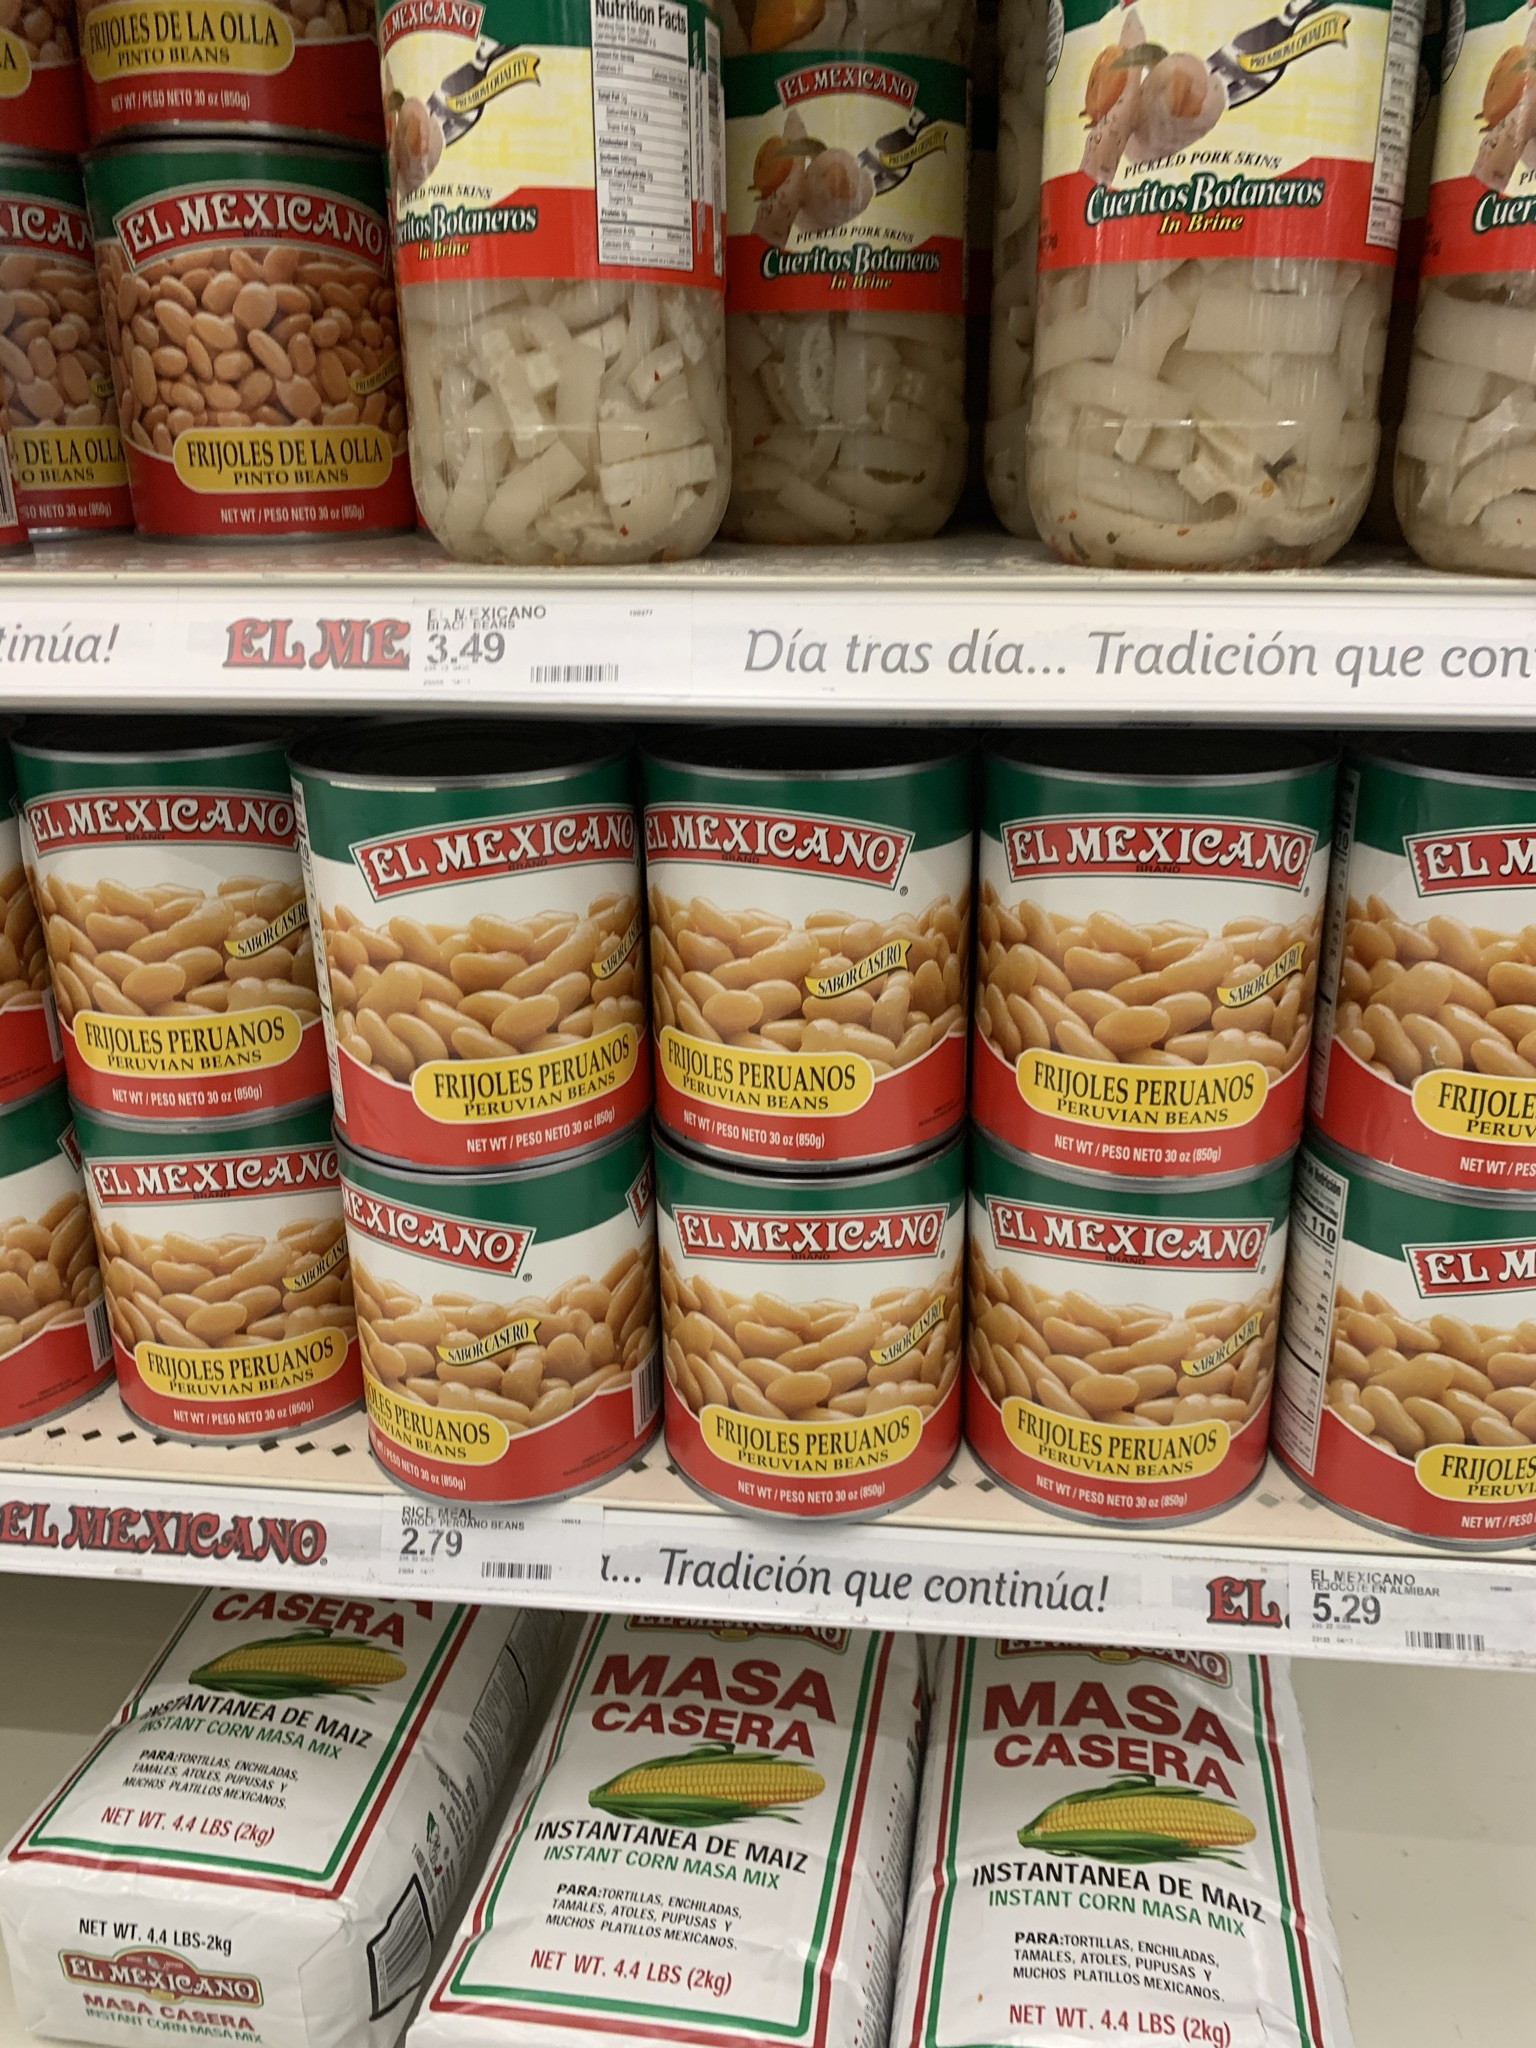can: (987, 761, 1304, 1142), (653, 769, 965, 1135), (337, 784, 628, 1150), (978, 1177, 1273, 1492), (666, 1163, 958, 1464), (349, 1177, 637, 1461), (1328, 777, 1536, 1156), (69, 793, 292, 1113), (1321, 1201, 1536, 1514), (123, 1140, 345, 1409)
